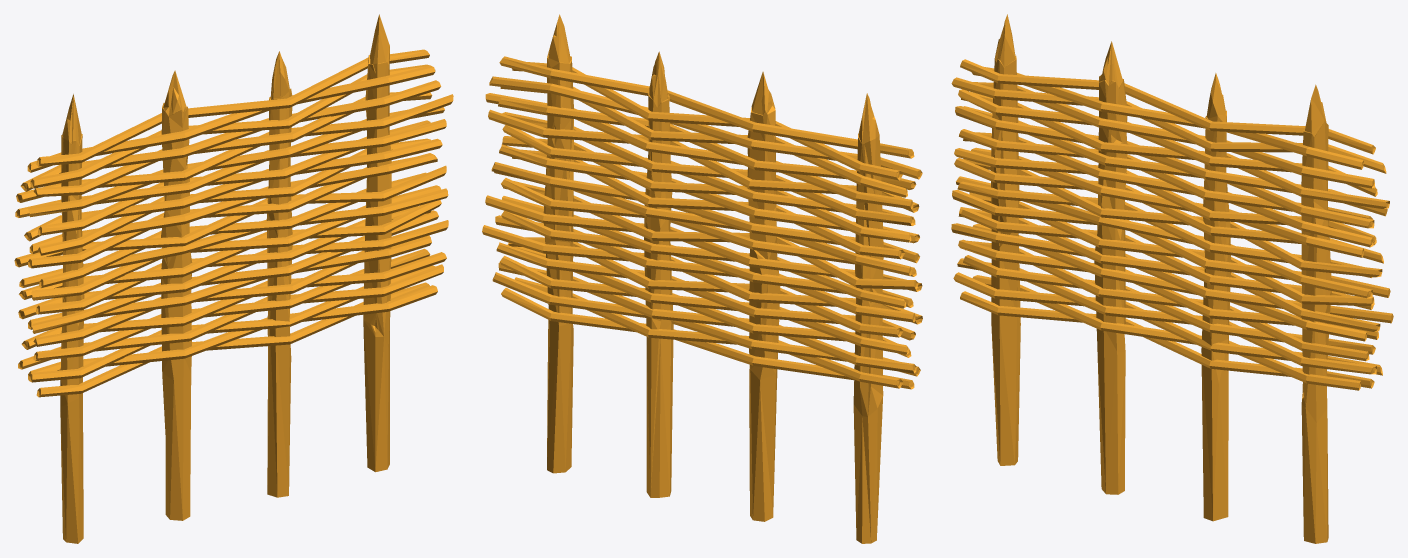
Rendered from SM_Barricade_Woven.fbx.
3 renders of one model, left to right at view 1: azimuth 30°, elevation 25°; view 2: azimuth 150°, elevation 25°; view 3: azimuth 330°, elevation 25°, orthographic.
Parts seen in each view (by area): view 1: barricade-woven; view 2: barricade-woven; view 3: barricade-woven.
Boxes of the visible parts, <box> form: barricade-woven: <box>14,14,453,543</box>; barricade-woven: <box>482,14,922,543</box>; barricade-woven: <box>951,14,1393,543</box>.
Size of the model in its own units: 4.62 by 4.65 by 0.4408.
